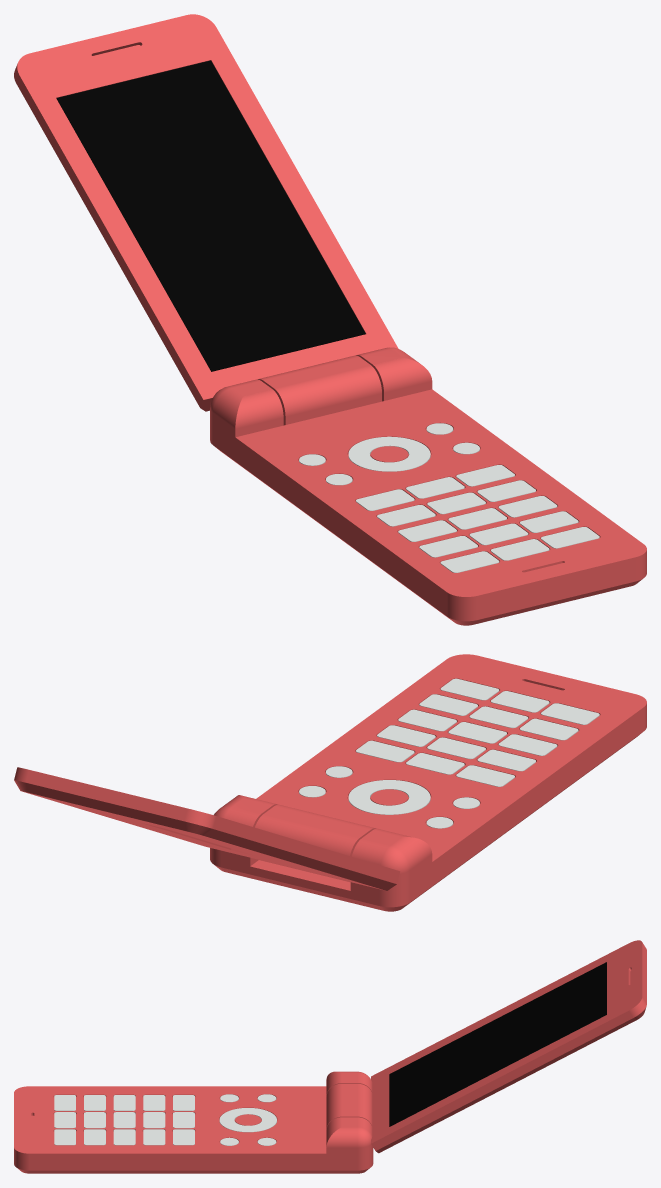
The model's file is 001_ガラケー開.glb.
3 renders of one model, top to bottom at view 1: azimuth 30°, elevation 25°; view 2: azimuth 150°, elevation 25°; view 3: azimuth 270°, elevation 25°, orthographic. The views are drawn at different scales.
Visible parts, largest first — view 1: 画面, ボディ; view 2: ボディ, 画面; view 3: ボディ, 画面.
Part boxes in pixels (x1,y1,x2,y2): 画面: (14, 14, 398, 411); ボディ: (210, 347, 646, 625); ボディ: (210, 654, 646, 911); 画面: (14, 767, 400, 890); ボディ: (14, 1071, 373, 1173); 画面: (371, 940, 646, 1153).
Size of the model in its own units: 0.051 by 0.062 by 0.2026.
